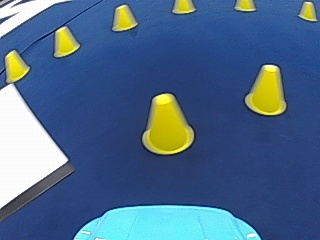cone: (142, 93, 193, 154), (246, 63, 287, 115), (4, 48, 30, 82), (52, 25, 80, 56), (111, 3, 137, 31), (298, 1, 317, 21), (172, 0, 194, 14), (234, 0, 255, 11)
